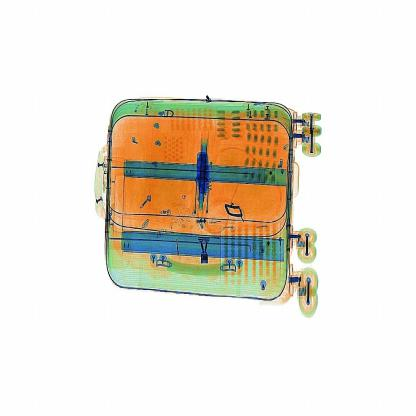scissors: (189, 140, 221, 210)
